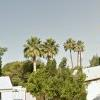Palm tree: (18, 29, 91, 87)
